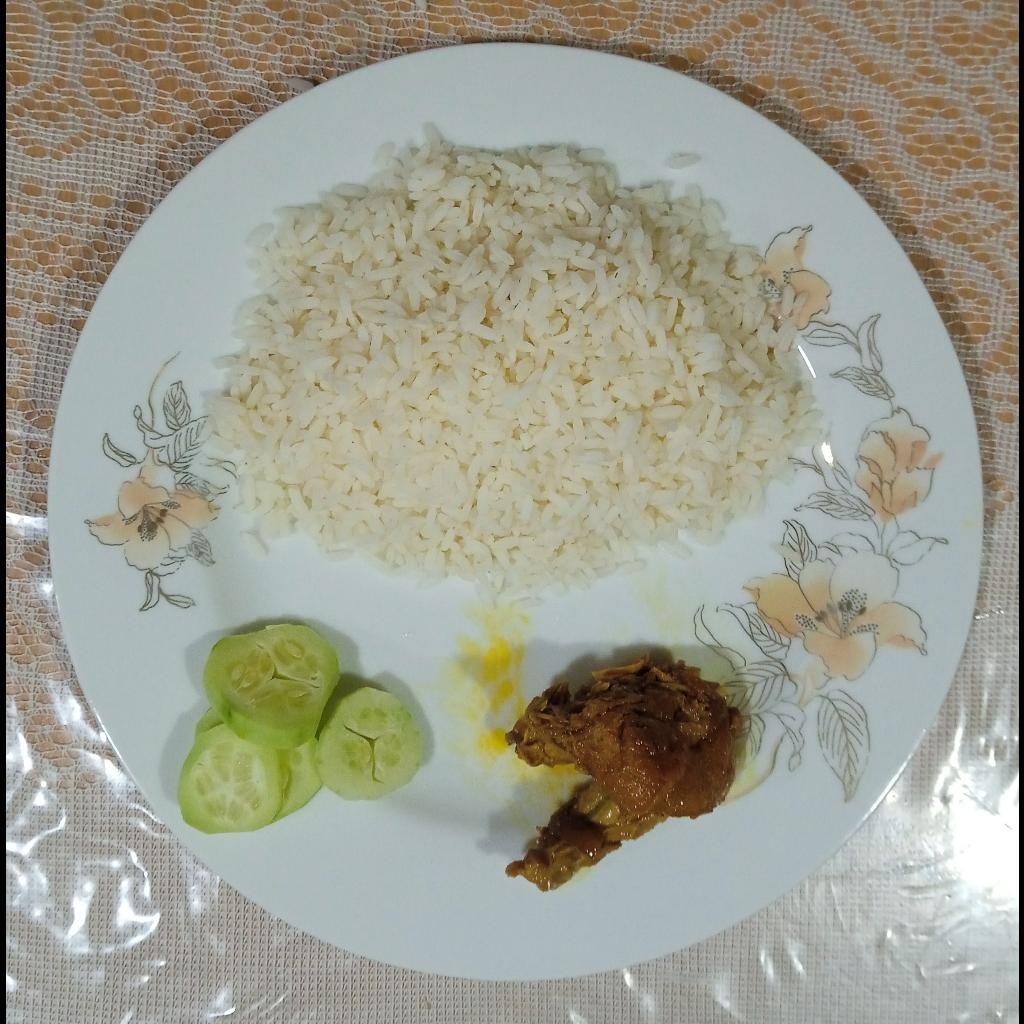chicken: (506, 654, 742, 896)
cucumber: (179, 623, 424, 836)
rice: (202, 128, 824, 616)
